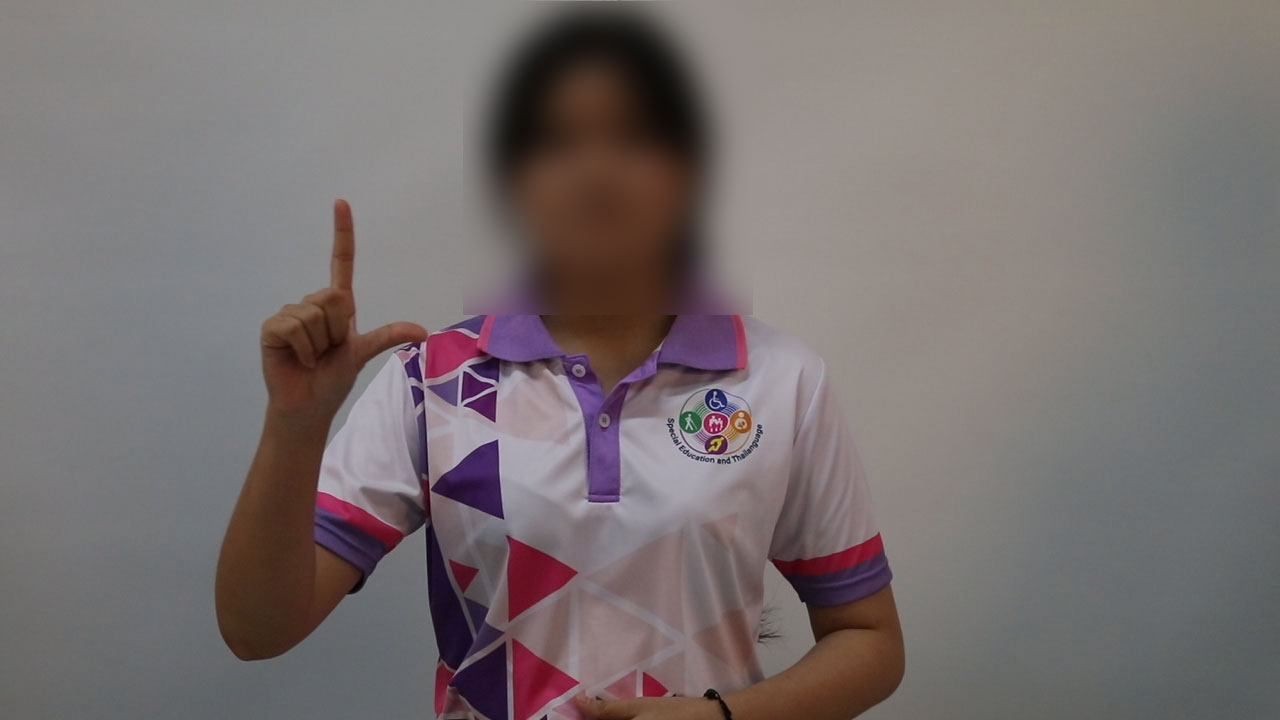lor: (251, 191, 440, 443)
